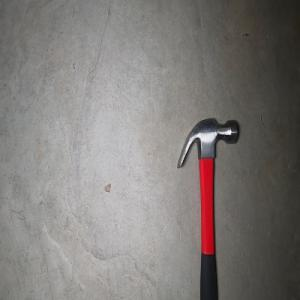Hammer: (176, 117, 239, 300)
